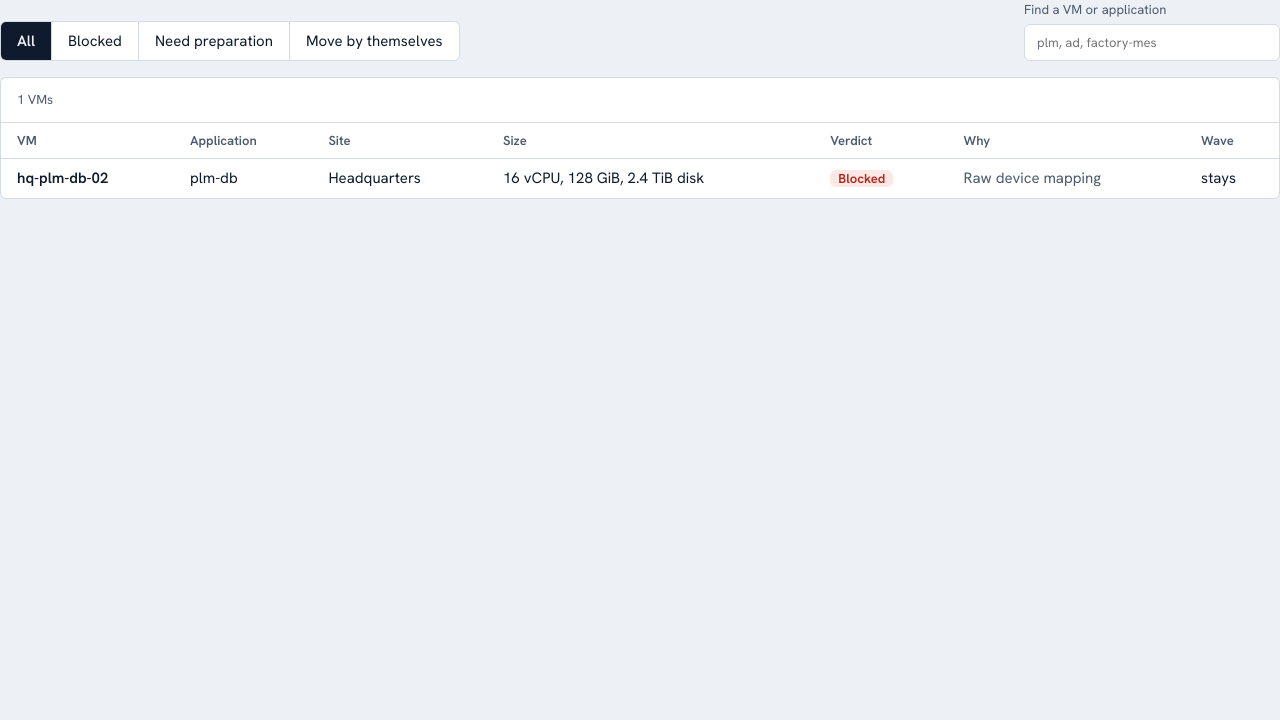
Test: EstatePage › opens a VM with its findings, sources and generated Terraform
Click the button "hq-plm-db-02".
click(63, 178)  # box [17,167,108,190]
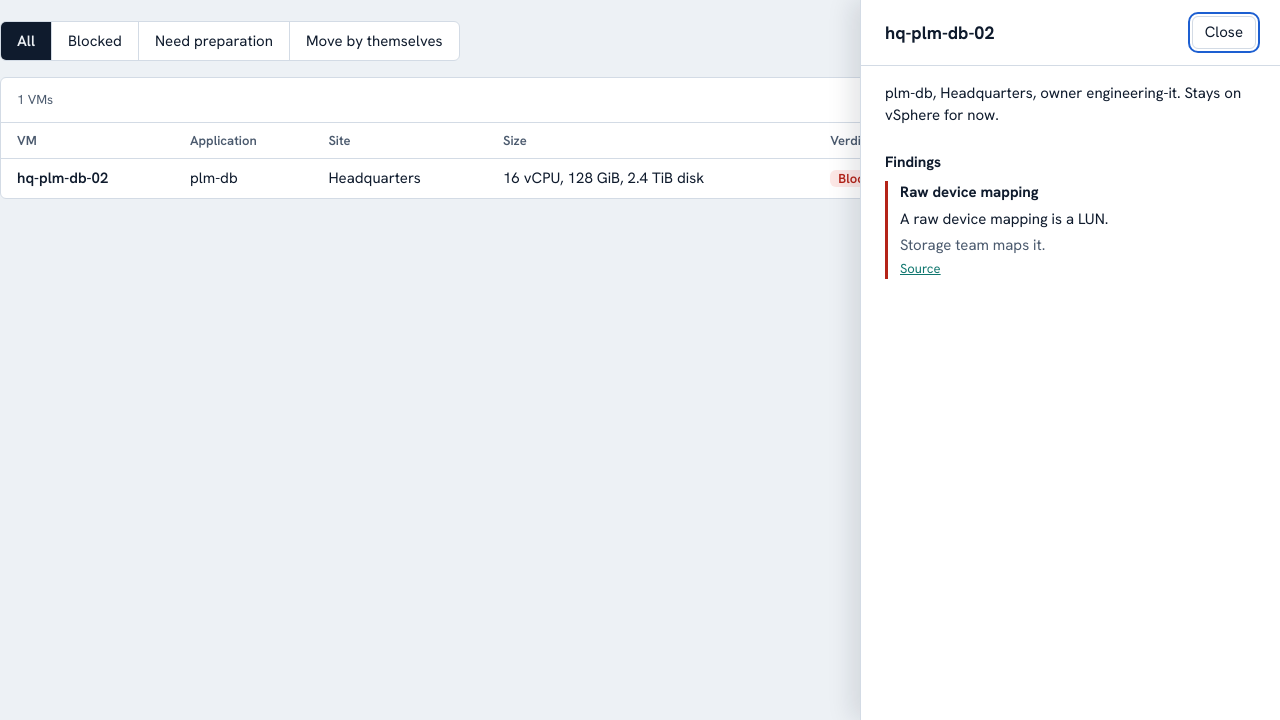
Now the dialog "hq-plm-db-02" is shown, box [860,0,1279,719]
